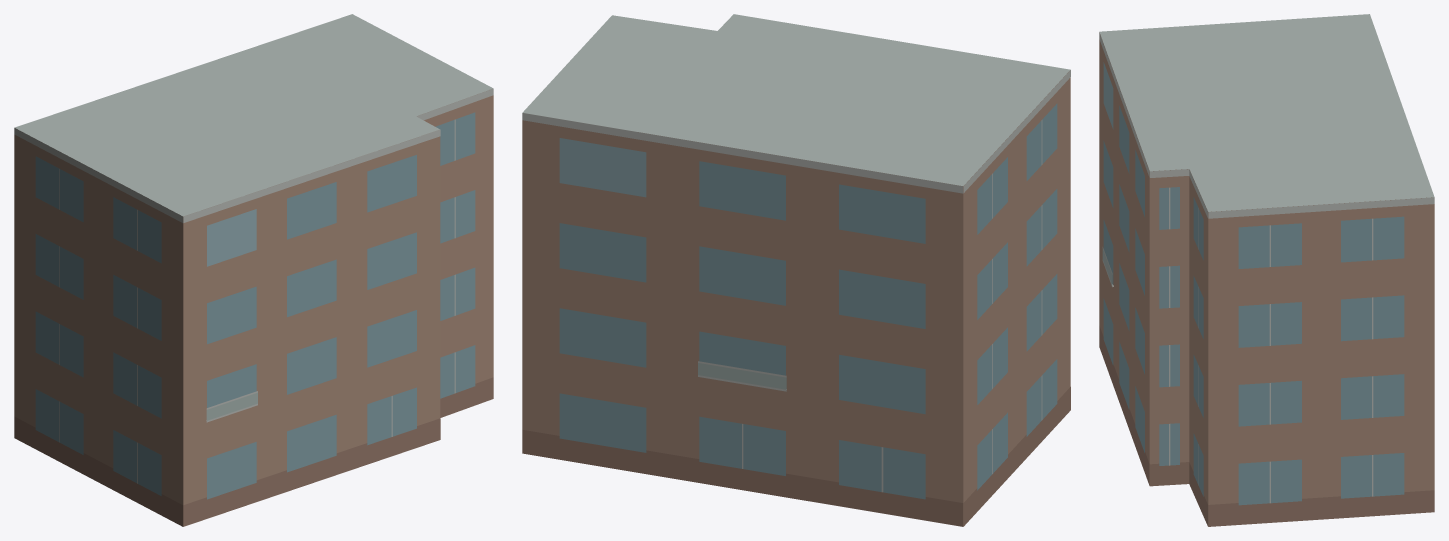
File: survey-upis-32576359.glb
The picture shows the model from 3 angles, left to right: view 1: azimuth 30°, elevation 25°; view 2: azimuth 150°, elevation 25°; view 3: azimuth 270°, elevation 25°; orthographic projection. The views are drawn at different scales.
Parts seen in each view (by area): view 1: survey-upis-32576359.tmp; view 2: survey-upis-32576359.tmp; view 3: survey-upis-32576359.tmp.
Part boxes in pixels (left/top/right/bottom): survey-upis-32576359.tmp: left=14, top=14, right=493, bottom=526; survey-upis-32576359.tmp: left=522, top=14, right=1070, bottom=526; survey-upis-32576359.tmp: left=1099, top=14, right=1434, bottom=526.
Bounding box in the file's own units: 15.1 × 11.19 × 10.81.
